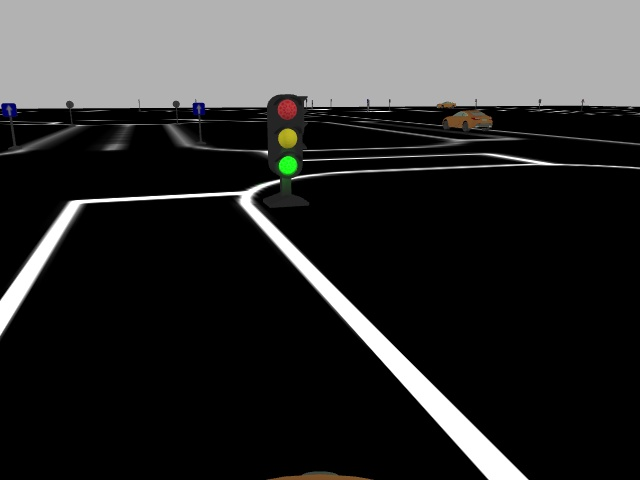green_light: (266, 92, 305, 180)
oneway: (1, 101, 18, 119), (191, 102, 206, 117)
